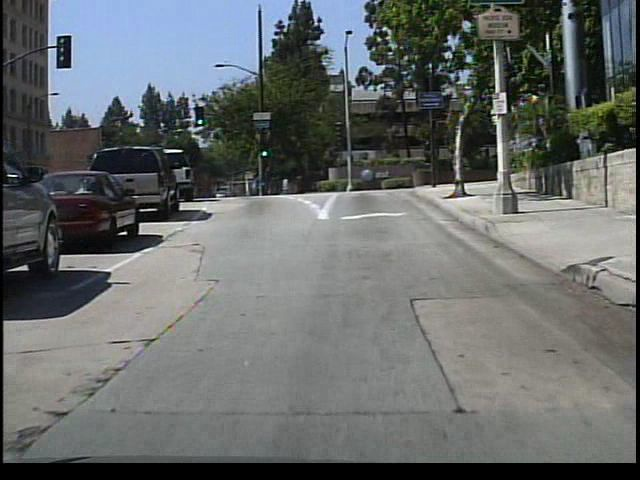person: (248, 168, 265, 199), (278, 172, 292, 197)
